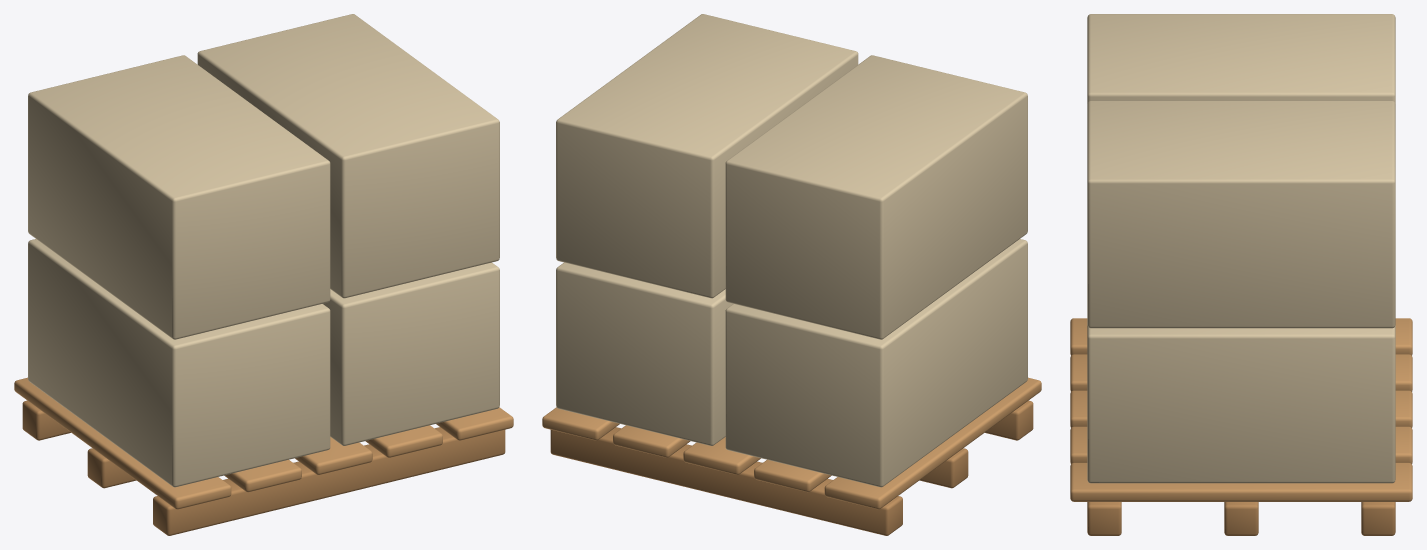
Rendered from palete.glb.
3 renders of one model, left to right at view 1: azimuth 30°, elevation 25°; view 2: azimuth 150°, elevation 25°; view 3: azimuth 270°, elevation 25°, orthographic. The views are drawn at different scales.
Parts seen in each view (by area): view 1: palete; view 2: palete; view 3: palete.
Part boxes in pixels (<box>): palete: <box>14,14,513,535</box>; palete: <box>542,14,1041,535</box>; palete: <box>1070,14,1412,535</box>.
Bounding box in the file's own units: 1.2 × 1.14 × 1.
